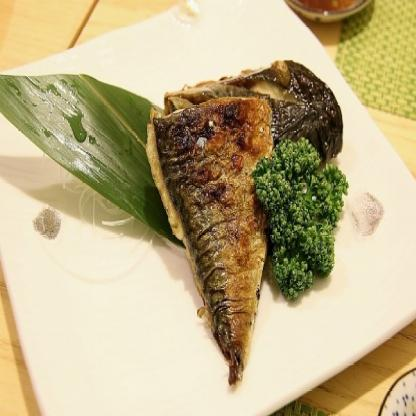Peixe: (130, 41, 348, 367)
